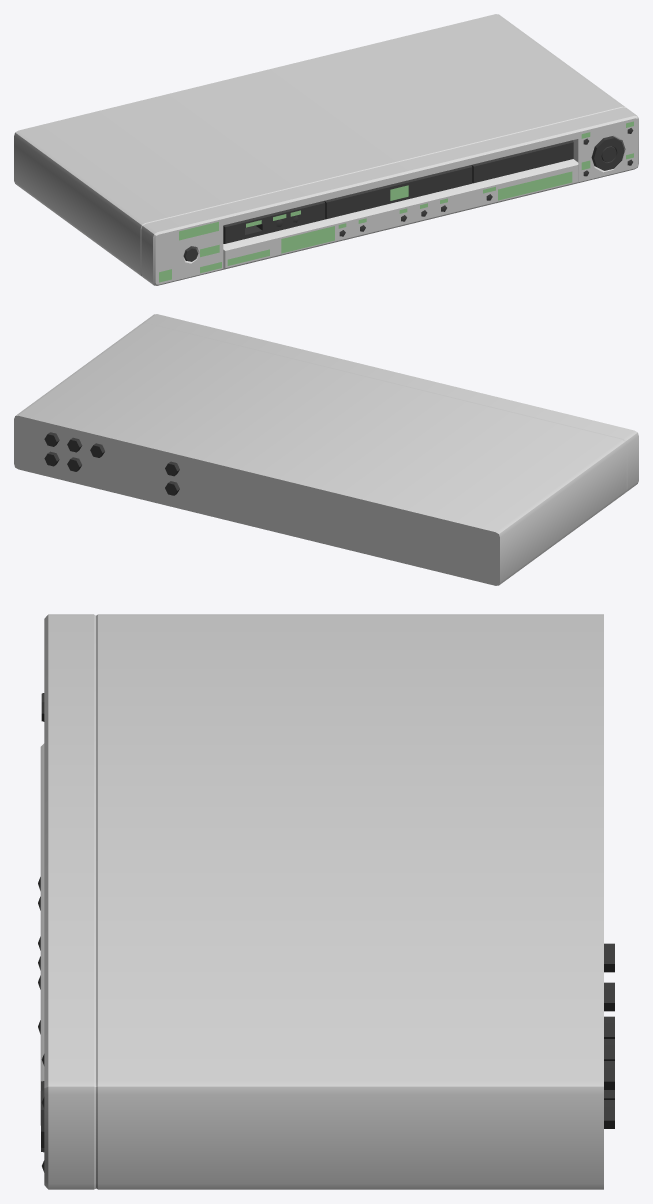
Rendered from HYYXDV400VG.FBX.
The picture shows the model from 3 angles, top to bottom: view 1: azimuth 30°, elevation 25°; view 2: azimuth 150°, elevation 25°; view 3: azimuth 270°, elevation 25°; orthographic projection. The views are drawn at different scales.
Parts seen in each view (by area): view 1: HYYXDV400VG; view 2: HYYXDV400VG; view 3: HYYXDV400VG.
Boxes of the visible parts, x1,y1,x2,y2 form: HYYXDV400VG: (14,14,638,285); HYYXDV400VG: (14,314,638,585); HYYXDV400VG: (38,614,614,1189).
Size of the model in its own units: 1067 by 126 by 549.
